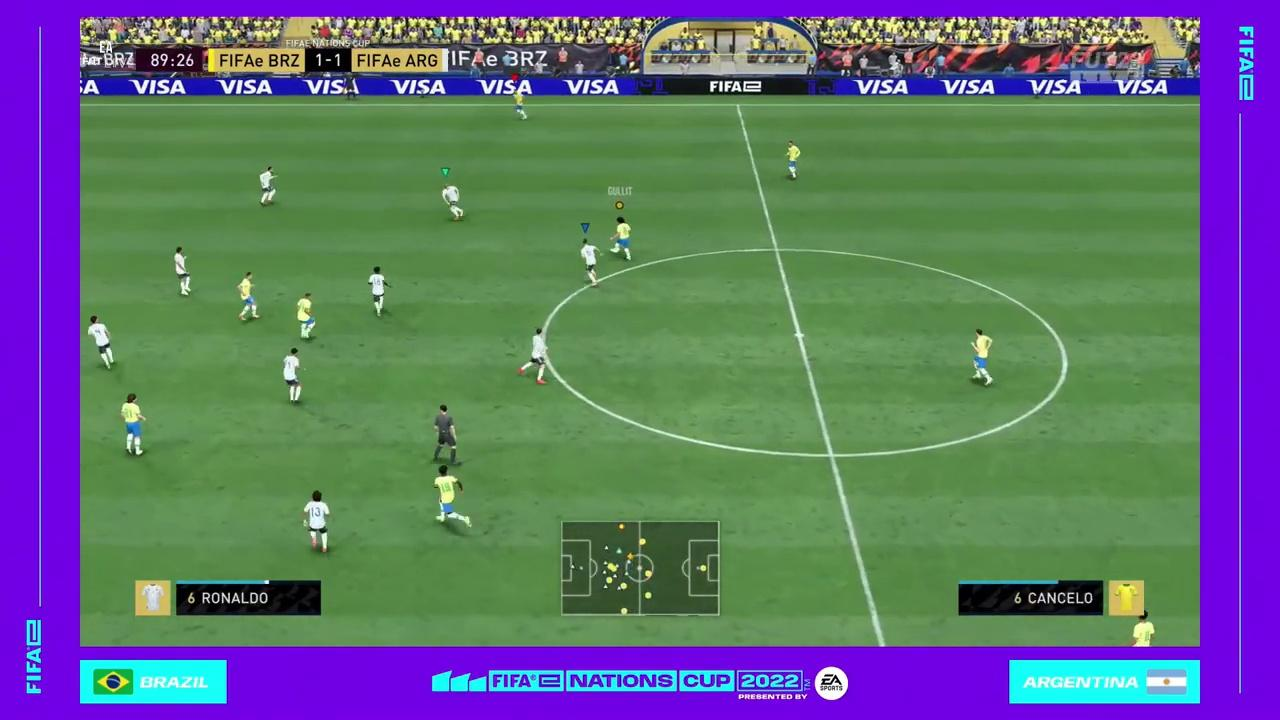scoreboard: (209, 44, 450, 73)
timestamp: (139, 46, 204, 71)
